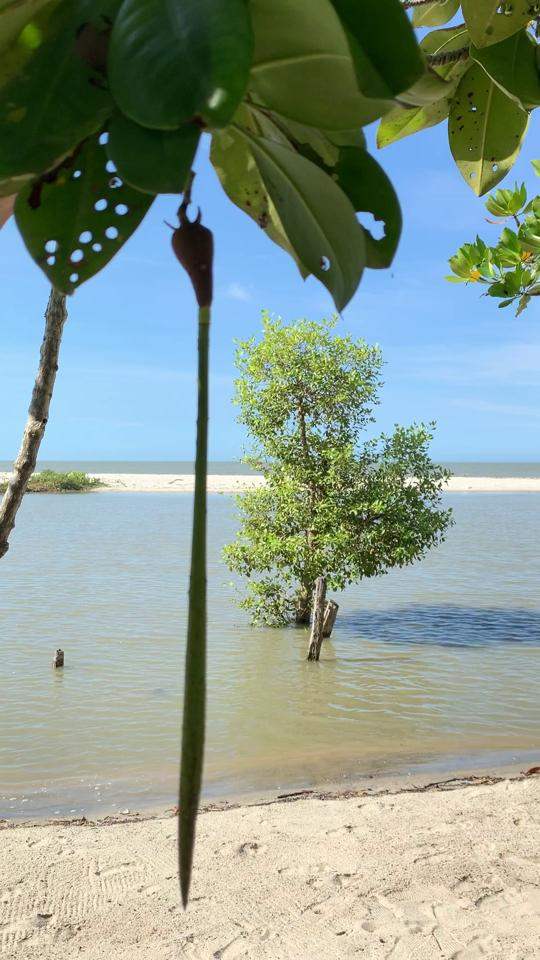setengah matang: (159, 207, 217, 916)
